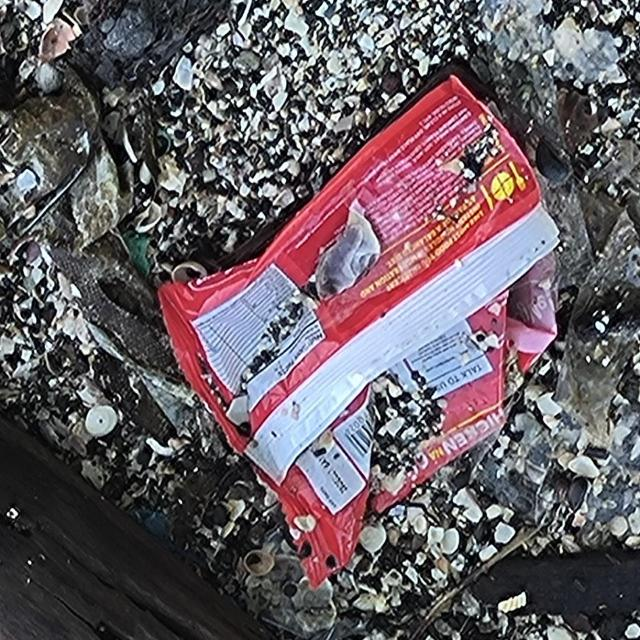plastic_waste: (155, 71, 564, 594)
